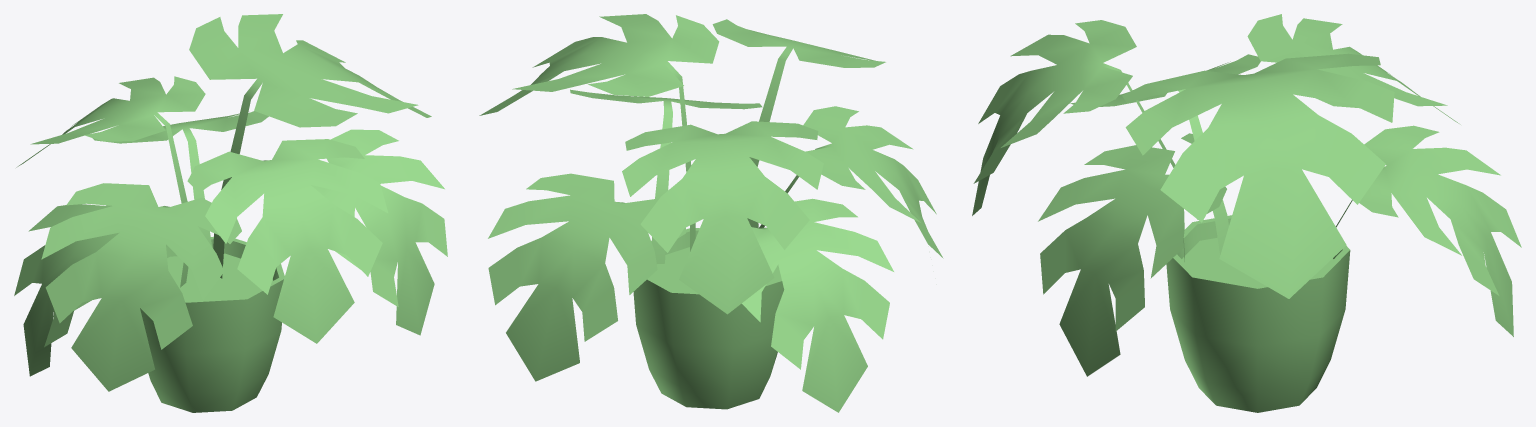
File: whole_plant.glb
3 views of the same model, side by side, from view 1: azimuth 30°, elevation 25°; view 2: azimuth 150°, elevation 25°; view 3: azimuth 270°, elevation 25° (orthographic). The views are drawn at different scales.
Visible parts, largest first — view 1: Houseplant_7; view 2: Houseplant_7; view 3: Houseplant_7.
Part boxes in pixels (left/top/right/bottom): Houseplant_7: left=14, top=14, right=447, bottom=412; Houseplant_7: left=479, top=14, right=943, bottom=412; Houseplant_7: left=972, top=14, right=1521, bottom=412.
Size of the model in its own units: 172 by 130 by 180.
